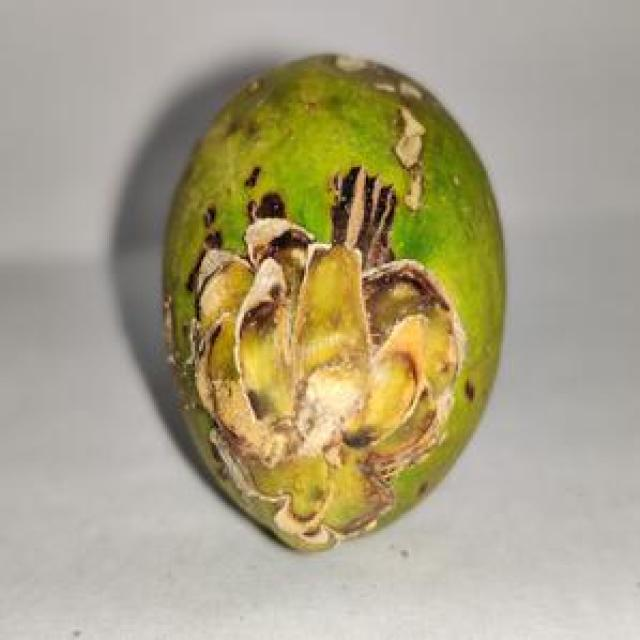damaged: (158, 54, 507, 552)
